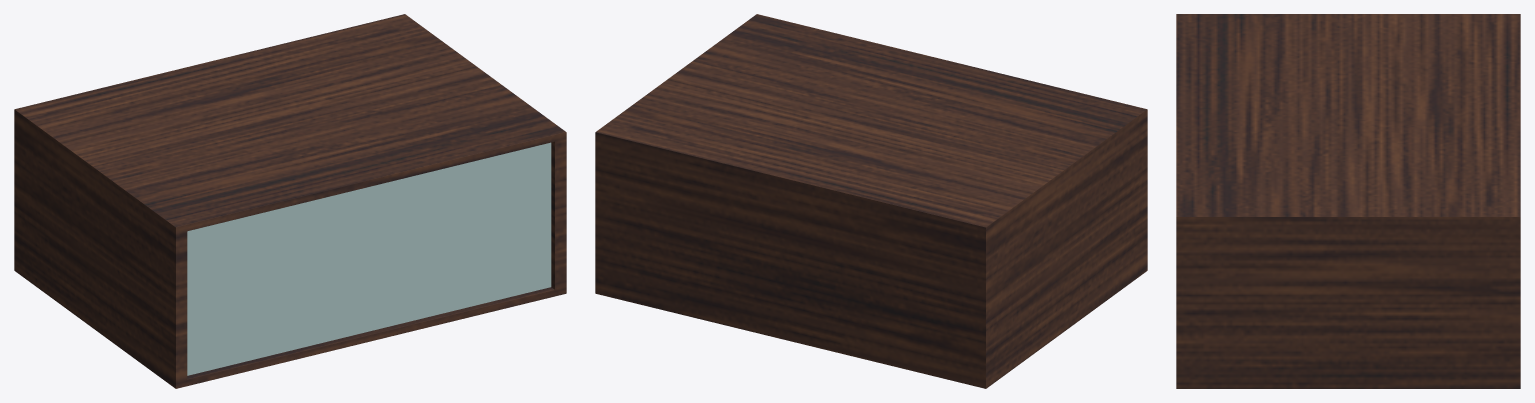
The model's file is TVstand.fbx.
3 renders of one model, left to right at view 1: azimuth 30°, elevation 25°; view 2: azimuth 150°, elevation 25°; view 3: azimuth 270°, elevation 25°, orthographic. The views are drawn at different scales.
Visible parts, largest first — view 1: box, window_R, window_L; view 2: box; view 3: box.
Boxes of the visible parts, left/top/right/bottom form: box: left=14, top=14, right=566, bottom=388; window_R: left=367, top=142, right=551, bottom=331; window_L: left=187, top=187, right=367, bottom=375; box: left=595, top=14, right=1147, bottom=388; box: left=1176, top=14, right=1520, bottom=388.
Size of the model in its own units: 165 by 65 by 118.
